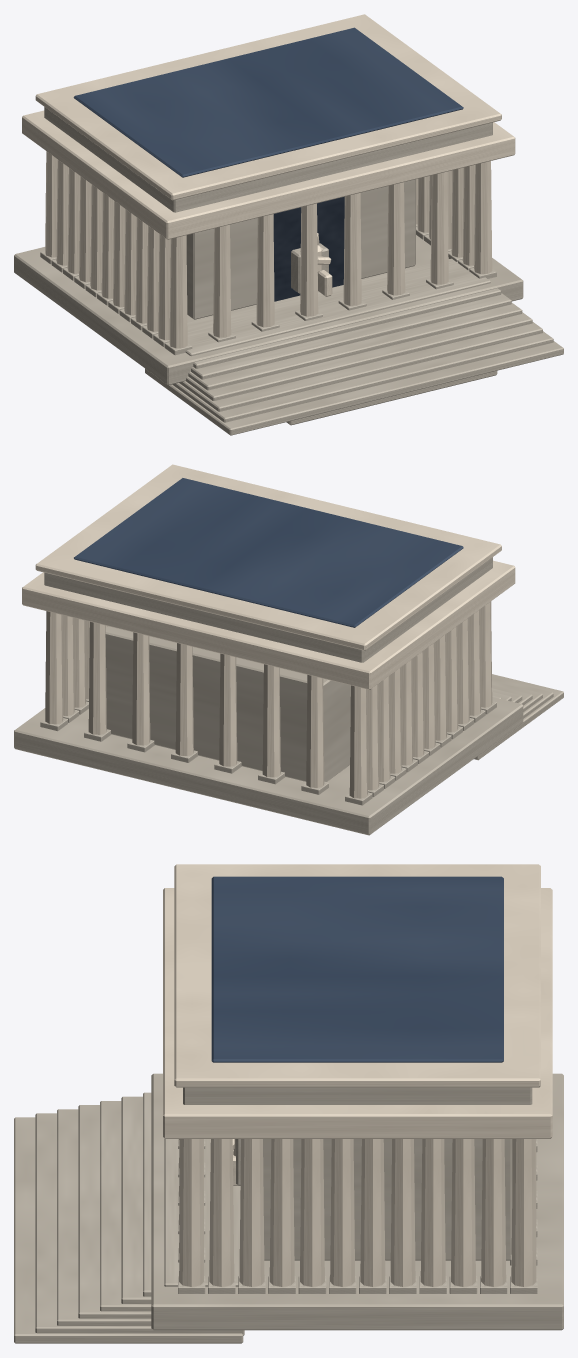
The model's file is lincoln-memorial.glb.
The picture shows the model from 3 angles, top to bottom: view 1: azimuth 30°, elevation 25°; view 2: azimuth 150°, elevation 25°; view 3: azimuth 270°, elevation 25°; orthographic projection. The views are drawn at different scales.
Visible parts, largest first — view 1: lincoln-memorial; view 2: lincoln-memorial; view 3: lincoln-memorial.
Part boxes in pixels (left/top/right/bottom): lincoln-memorial: left=14, top=14, right=563, bottom=435; lincoln-memorial: left=14, top=464, right=563, bottom=835; lincoln-memorial: left=14, top=864, right=563, bottom=1343.
Size of the model in its own units: 9.6 by 5.35 by 9.6.
1 material, 1 textured.
